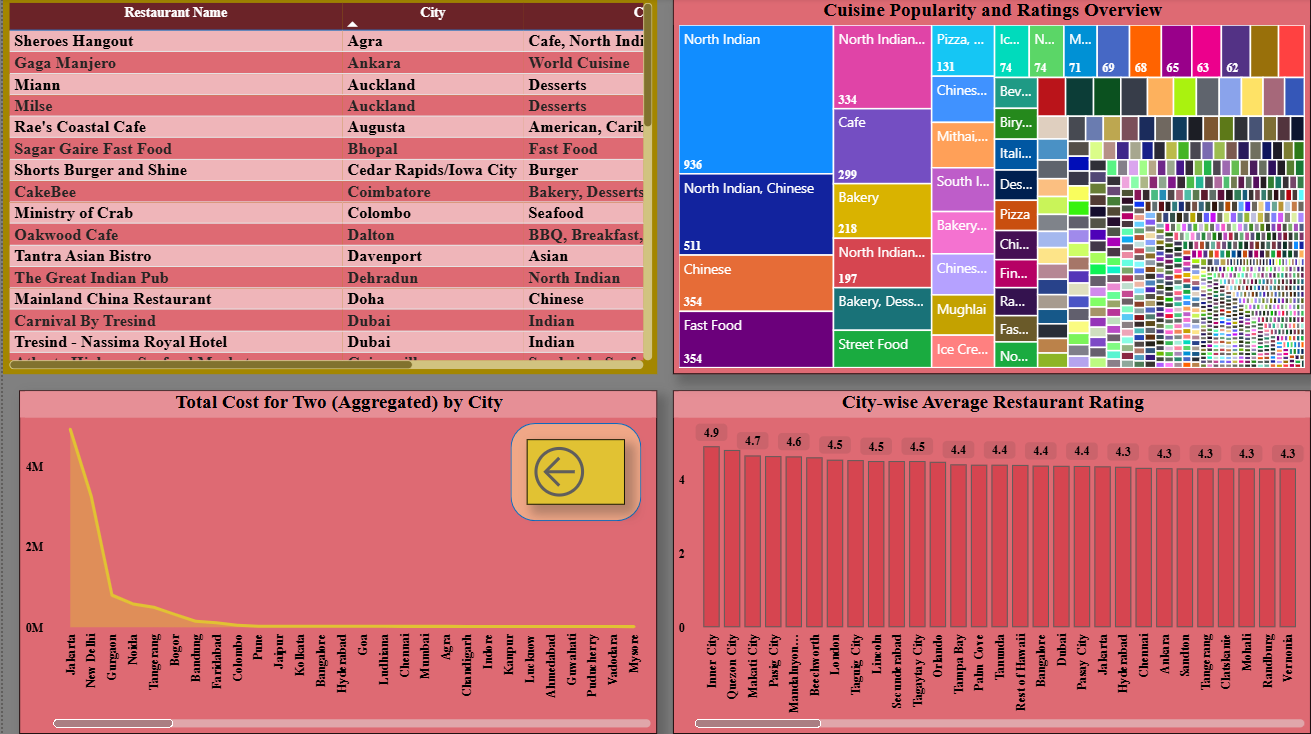

The page's visual inventory and layout, read from the dashboard file:
{"tool":"powerbi","page":{"name":"Ratings & Cost Insights","canvas":[1280,720],"ordinal":2},"visuals":[{"type":"lineChart","title":"Total Cost for Two (Aggregated) by City","fields":{"Category":["zomato.City"],"Y":["Sum(zomato.Average Cost for two)"]},"box":[16,384,624,336],"z":0},{"type":"clusteredColumnChart","title":"City-wise Average Restaurant Rating","fields":{"Category":["zomato.City"],"Y":["zomato.Average Rating"]},"box":[656,384,624,336],"z":1000},{"type":"treemap","title":"Cuisine Popularity and Ratings Overview","fields":{"Group":["zomato.Cuisines"],"Values":["zomato.Total Restaurants"]},"box":[656,0,624,368],"z":2000},{"type":"tableEx","fields":{"Values":["zomato.Restaurant Name","zomato.City","zomato.Cuisines","zomato.Average Rating","zomato.Avg Cost by City"]},"box":[0,0,640,368],"z":3000},{"type":"shape","box":[496,416,128,96],"z":7000},{"type":"actionButton","box":[512,432,96,64],"z":8000}]}

Visuals, with their boxes in screenshot pixels (x1, y1, x2, y2), scaled from the page's 1280x720 canvas onto the 1311x734 screenshot:
"Total Cost for Two (Aggregated) by City" lineChart: x1=16, y1=391, x2=656, y2=733
"City-wise Average Restaurant Rating" clusteredColumnChart: x1=672, y1=391, x2=1310, y2=733
"Cuisine Popularity and Ratings Overview" treemap: x1=672, y1=0, x2=1310, y2=375
tableEx - zomato.Restaurant Name x zomato.City: x1=0, y1=0, x2=656, y2=375
shape: x1=508, y1=424, x2=639, y2=522
actionButton: x1=524, y1=440, x2=623, y2=506
